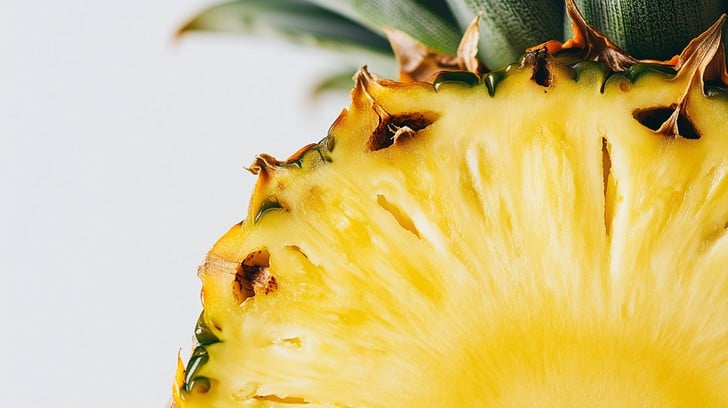pineapple: (176, 26, 728, 401)
